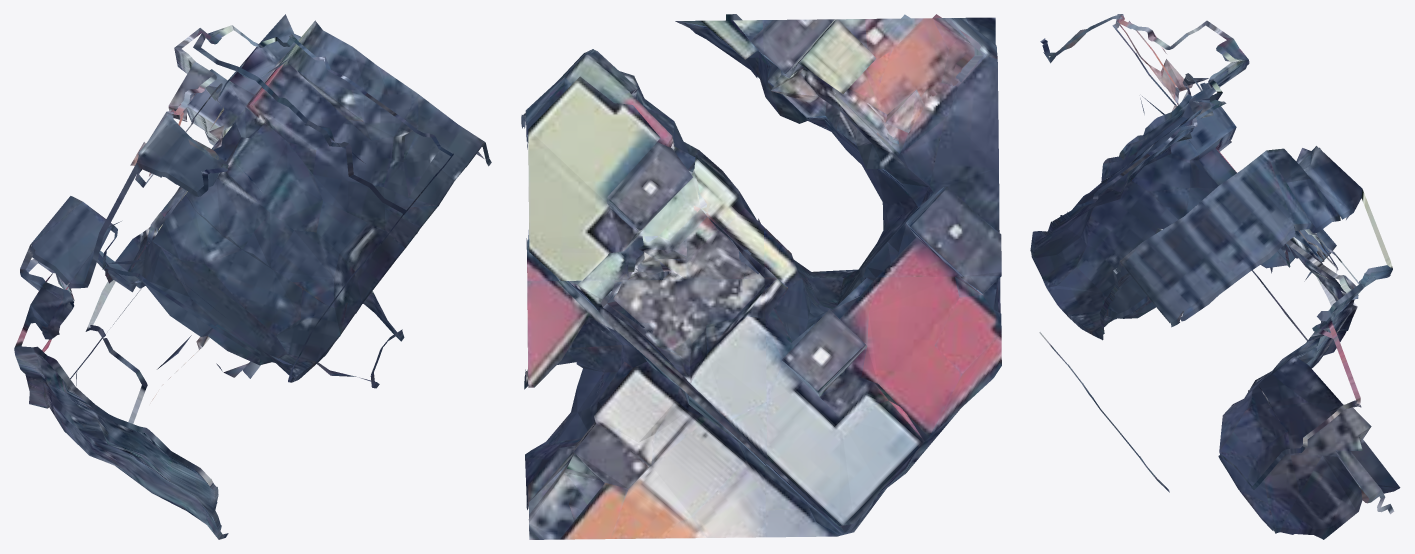
The picture shows the model from 3 angles, left to right: view 1: azimuth 30°, elevation 25°; view 2: azimuth 150°, elevation 25°; view 3: azimuth 270°, elevation 25°; orthographic projection. The views are drawn at different scales.
Bounding box in the file's own units: 43.15 × 44.01 × 32.25.
1 material, 1 textured.
